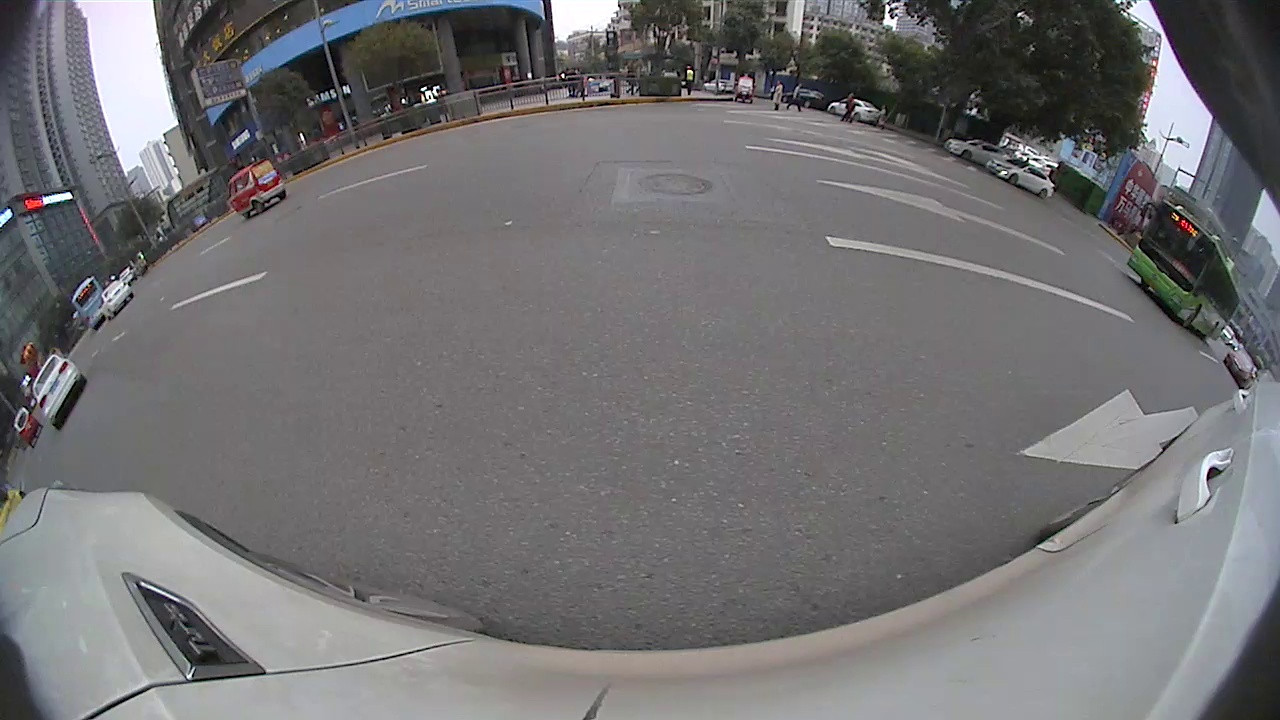bus: (1125, 193, 1241, 343), (69, 276, 108, 332)
car: (33, 353, 88, 430), (987, 157, 1058, 200), (943, 132, 1010, 166), (827, 96, 886, 123), (1220, 348, 1257, 388), (102, 278, 137, 318)
front: (959, 147, 974, 164), (1006, 173, 1021, 187)
rear: (250, 198, 266, 217), (1036, 185, 1050, 203)
rider: (228, 158, 287, 219)
